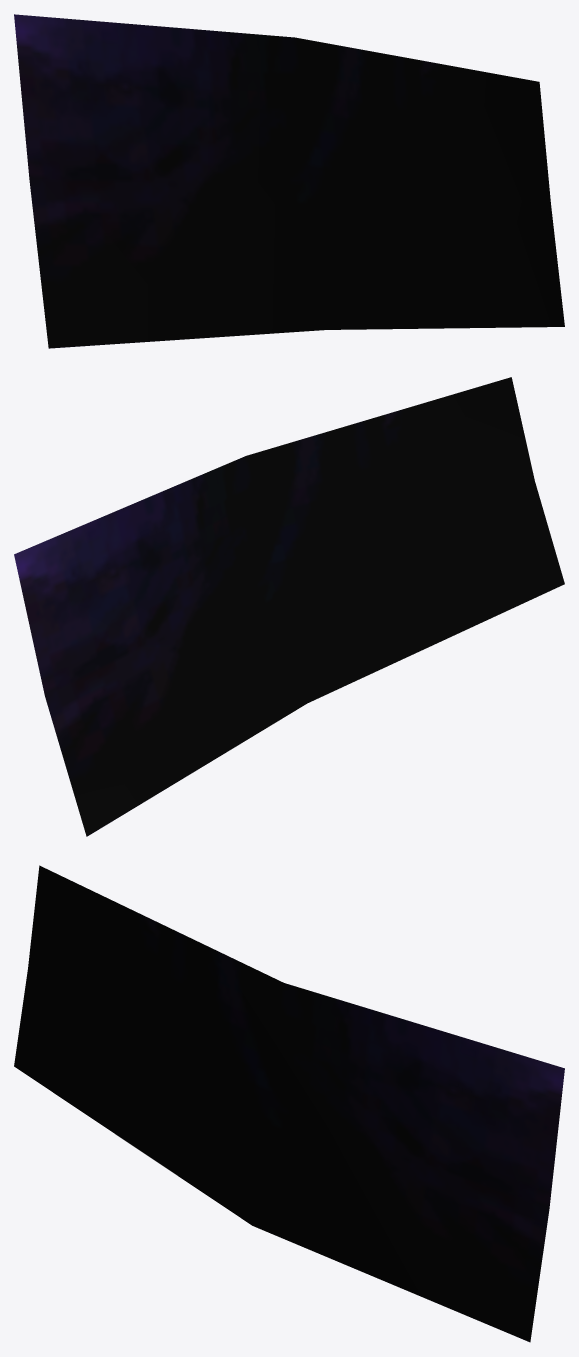
Rendered from SWORDLIGHT20_PS-AREA05-RANGE01_08.fbx.
3 views of the same model, one above another, from view 1: azimuth 90°, elevation 25°; view 2: azimuth 150°, elevation 25°; view 3: azimuth 270°, elevation 25° (orthographic). The views are drawn at different scales.
Visible parts, largest first — view 1: SWORDLIGHT20_PS-AREA05-RANGE01_08; view 2: SWORDLIGHT20_PS-AREA05-RANGE01_08; view 3: SWORDLIGHT20_PS-AREA05-RANGE01_08.
Part boxes in pixels (box(x1,y1,x2,y2)): SWORDLIGHT20_PS-AREA05-RANGE01_08: box(14, 14, 564, 348); SWORDLIGHT20_PS-AREA05-RANGE01_08: box(14, 377, 564, 836); SWORDLIGHT20_PS-AREA05-RANGE01_08: box(14, 865, 564, 1342).
Bounding box in the file's own units: 150749 × 166250 × 223218.
1 material, 1 textured.
